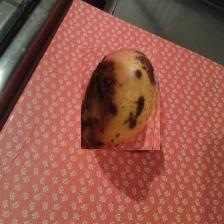Mango Rotten: (82, 48, 161, 151)
